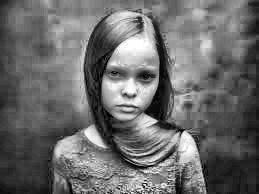sad: (99, 61, 161, 129)
